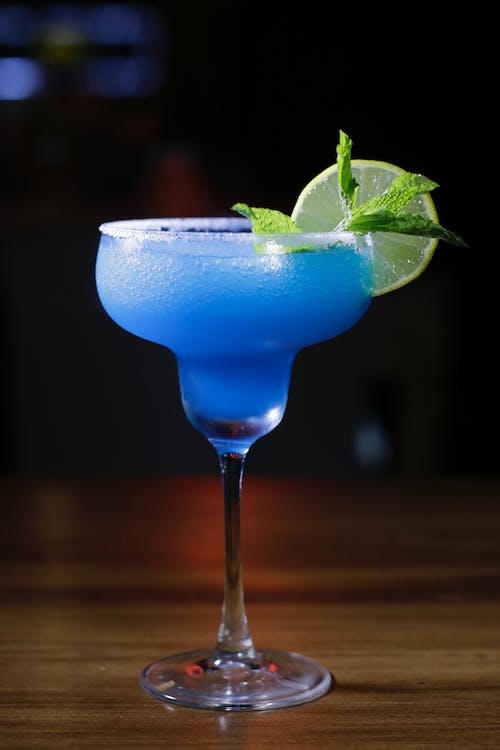alcohol: (91, 214, 377, 715)
